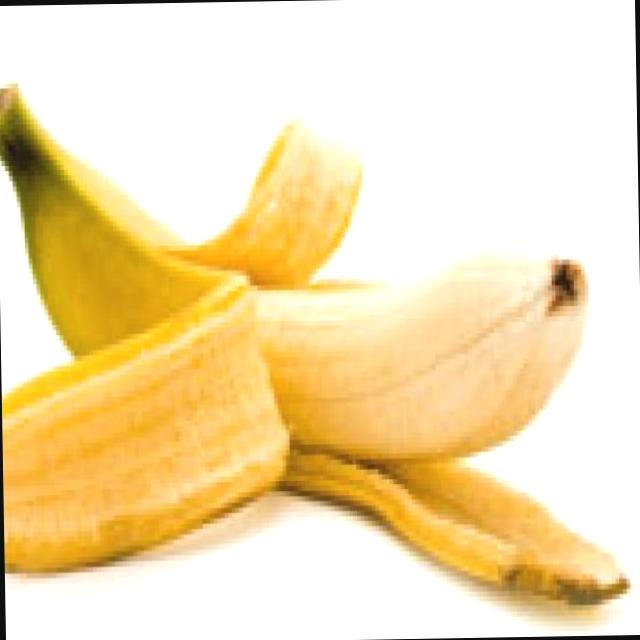banana: (2, 154, 606, 486)
